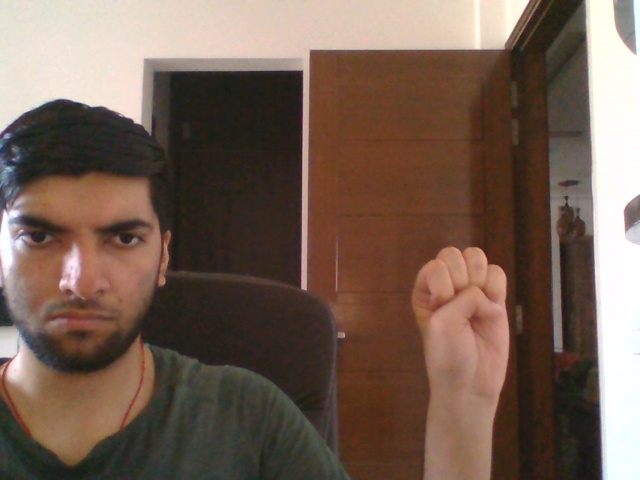LetterS: (410, 243, 512, 402)
